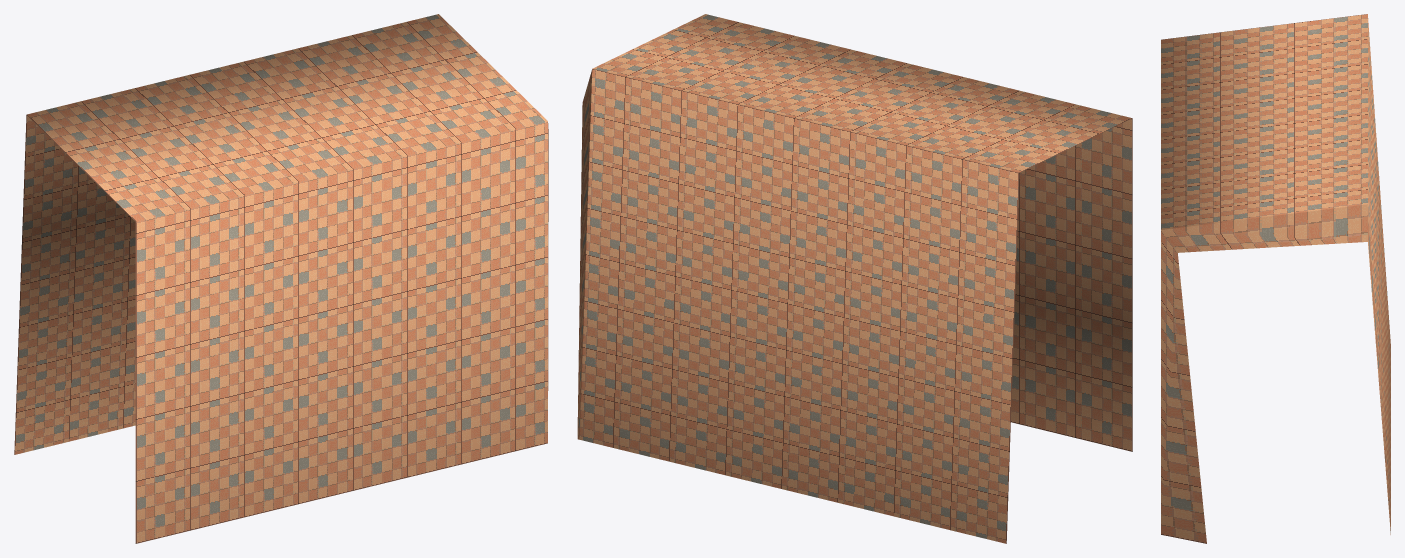
The model's file is 4650floor000_c.gltf.
3 renders of one model, left to right at view 1: azimuth 30°, elevation 25°; view 2: azimuth 150°, elevation 25°; view 3: azimuth 270°, elevation 25°, orthographic. The views are drawn at different scales.
Visible parts, largest first — view 1: 4650floor000_c; view 2: 4650floor000_c; view 3: 4650floor000_c.
Boxes of the visible parts, x1=… form: 4650floor000_c: x1=14, y1=14, x2=548, y2=543; 4650floor000_c: x1=577, y1=14, x2=1132, y2=543; 4650floor000_c: x1=1161, y1=14, x2=1390, y2=543.
Size of the model in its own units: 2.05 by 1.59 by 1.
Materials: 1 (1 with a texture image).
